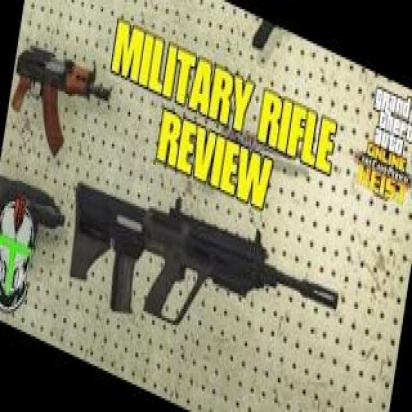Gun: (68, 178, 346, 339)
